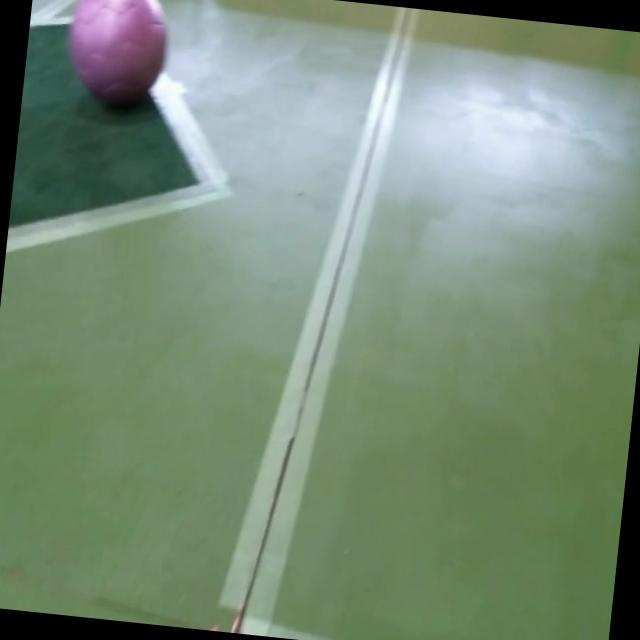purple_ball: (61, 0, 176, 111)
